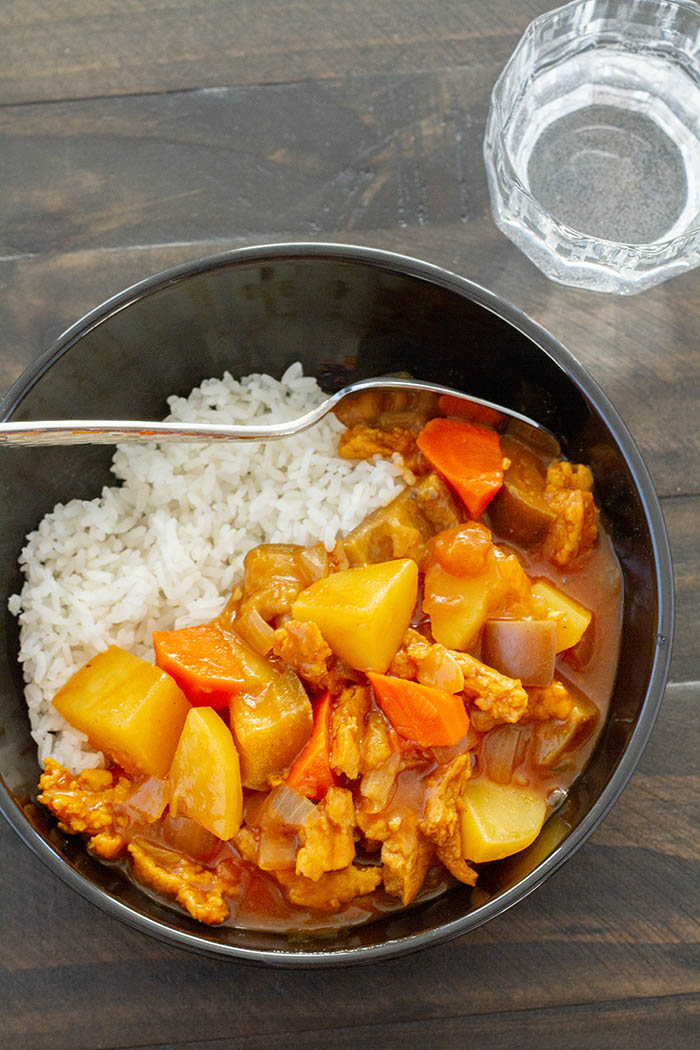curry: (70, 560, 621, 919)
rice: (13, 376, 400, 730)
